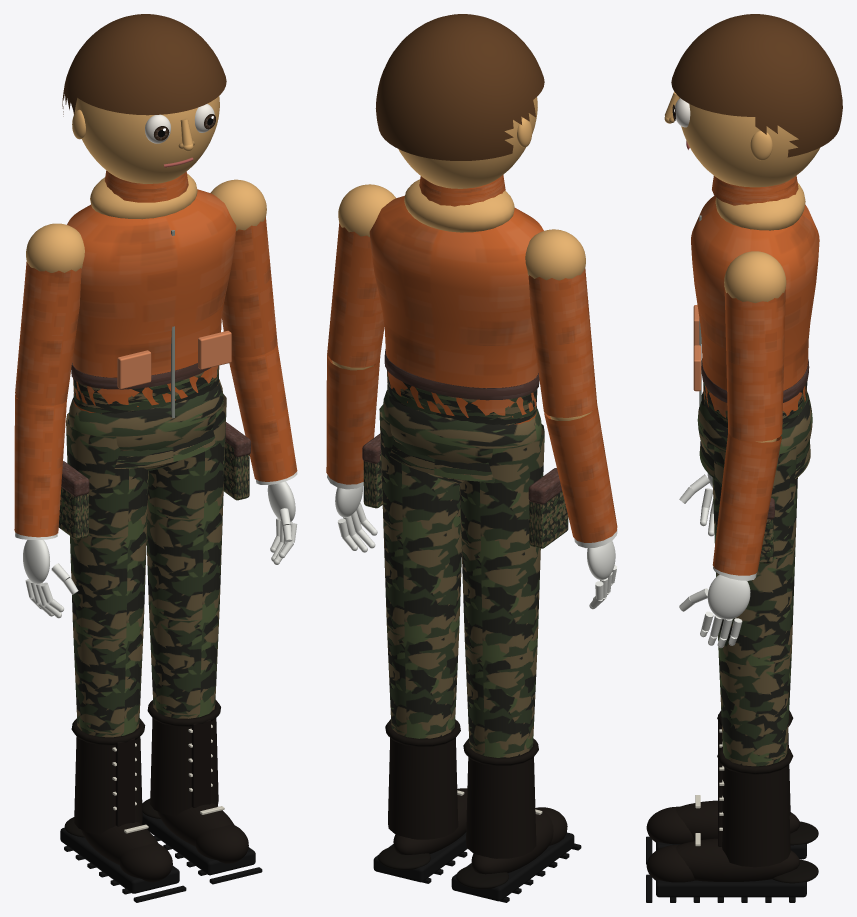
Rendered from 06-gants-medicaux.glb.
The picture shows the model from 3 angles, left to right: view 1: azimuth 30°, elevation 25°; view 2: azimuth 150°, elevation 25°; view 3: azimuth 270°, elevation 25°; orthographic projection. The views are drawn at different scales.
Bounding box in the file's own units: 0.6195 × 1.77 × 0.3715.
23 materials, 4 textured.
